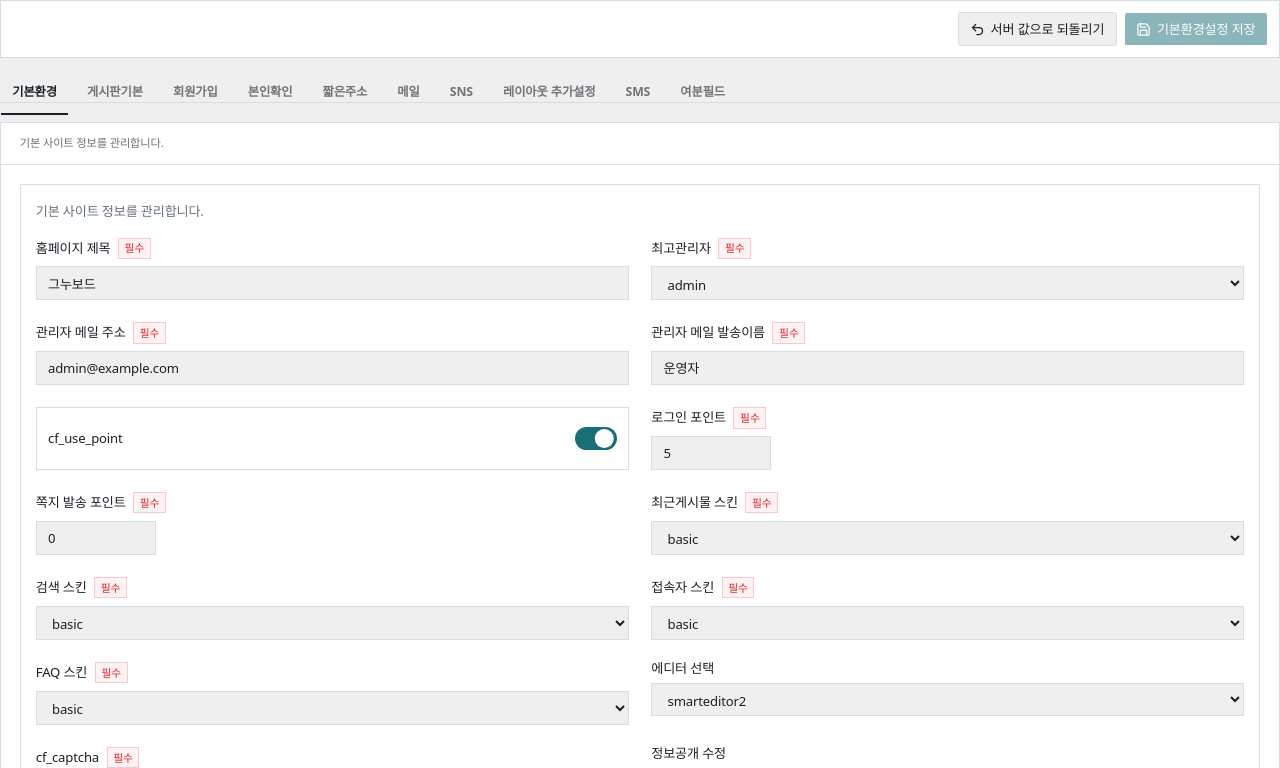
Test: AdminConfigPage legacy editability › keeps extra title and value fields editable even when stale schema marks them readonly
This screenshot has width=1280, height=768.
Click the tab "여분필드": (703, 92) [668,73,737,111]
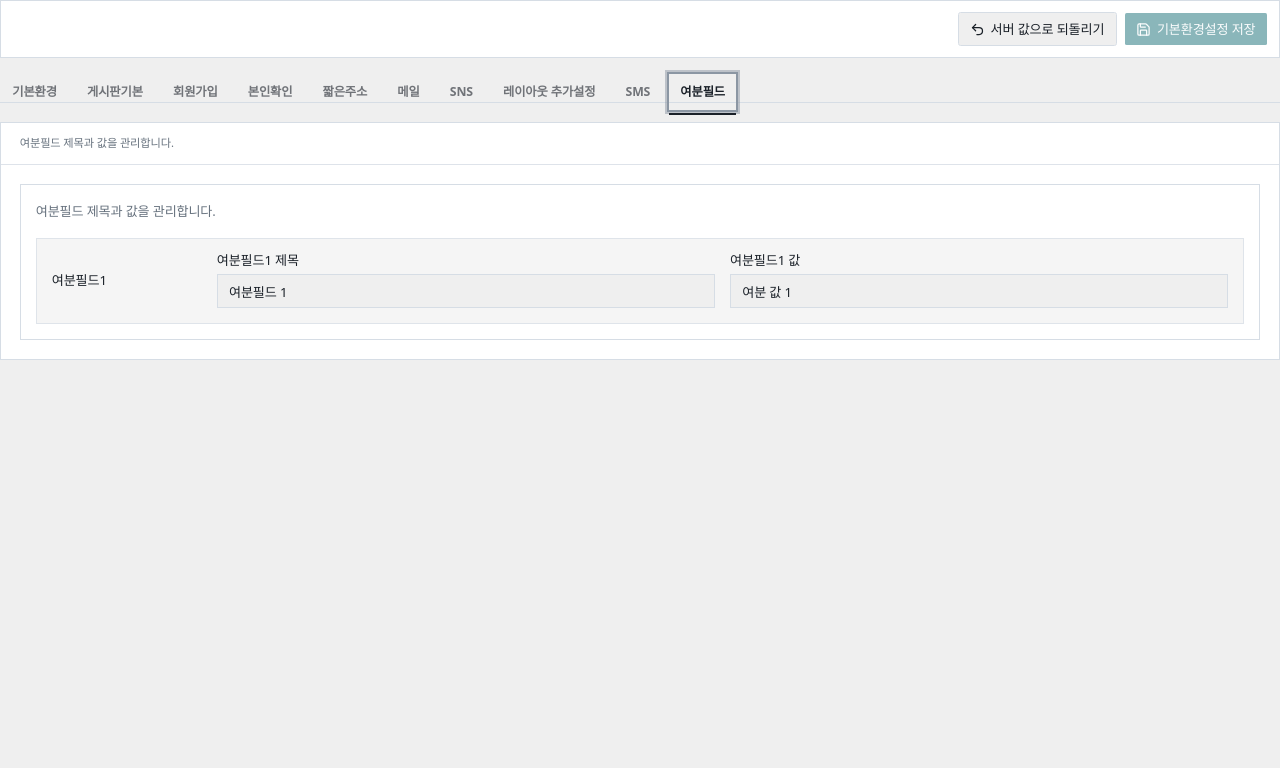
Expected: the field labelled "여분필드1 제목" is enabled, [217,274,715,308]
Expected: the field labelled "여분필드1 값" is enabled, [730,274,1228,308]
